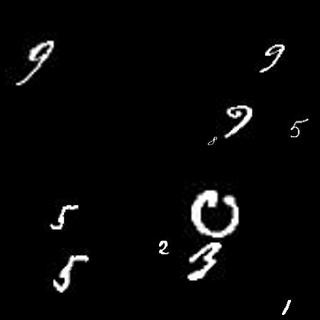eight: (206, 135, 218, 149)
five: (52, 253, 88, 294), (49, 201, 81, 232), (285, 113, 310, 141)
nine: (14, 36, 58, 90), (225, 102, 262, 140), (255, 41, 288, 75)
one: (279, 295, 294, 317)
three: (188, 242, 221, 283)
two: (154, 238, 172, 257)
zero: (189, 193, 243, 238)
